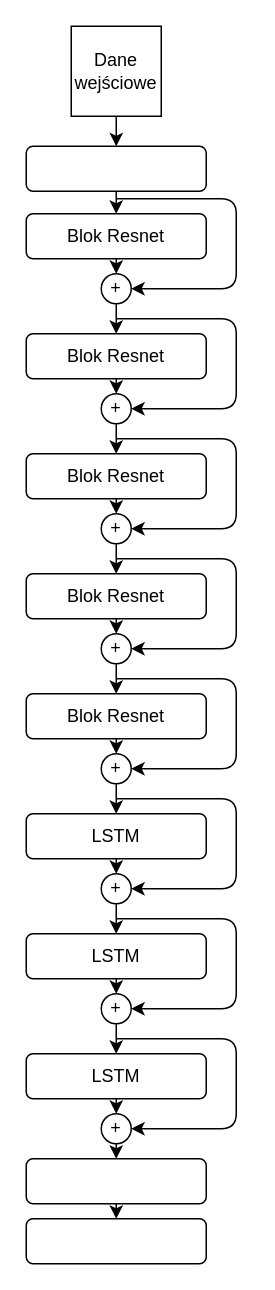
This 275x1290 diagram has some shape labels left out. The shapes that lost their labels are listed below. From the top down, each one's box as (x1, y1, x2, y2) in pixels, then its label:
(25, 145, 206, 191): Konwolucja
(25, 1157, 206, 1204): Warstw Gęsto Połączona
(25, 1217, 206, 1264): Dekoder CTC
